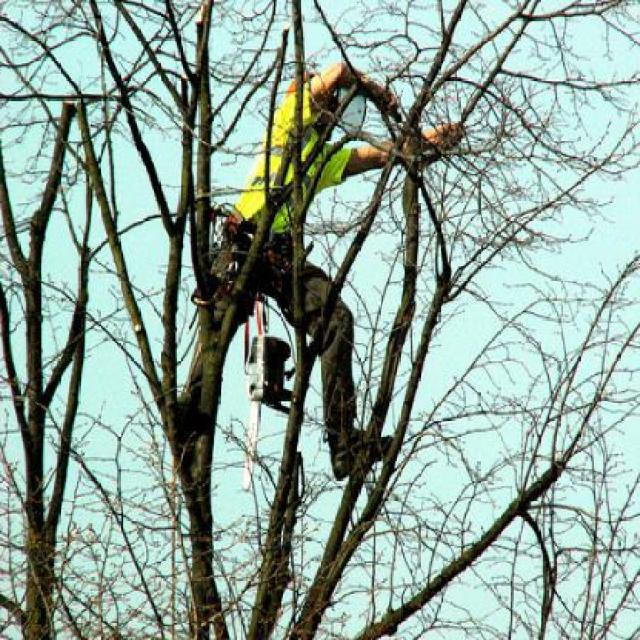Chainsaw: (242, 308, 292, 489)
